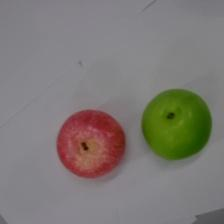green: (140, 88, 211, 161)
red: (55, 108, 127, 180)
